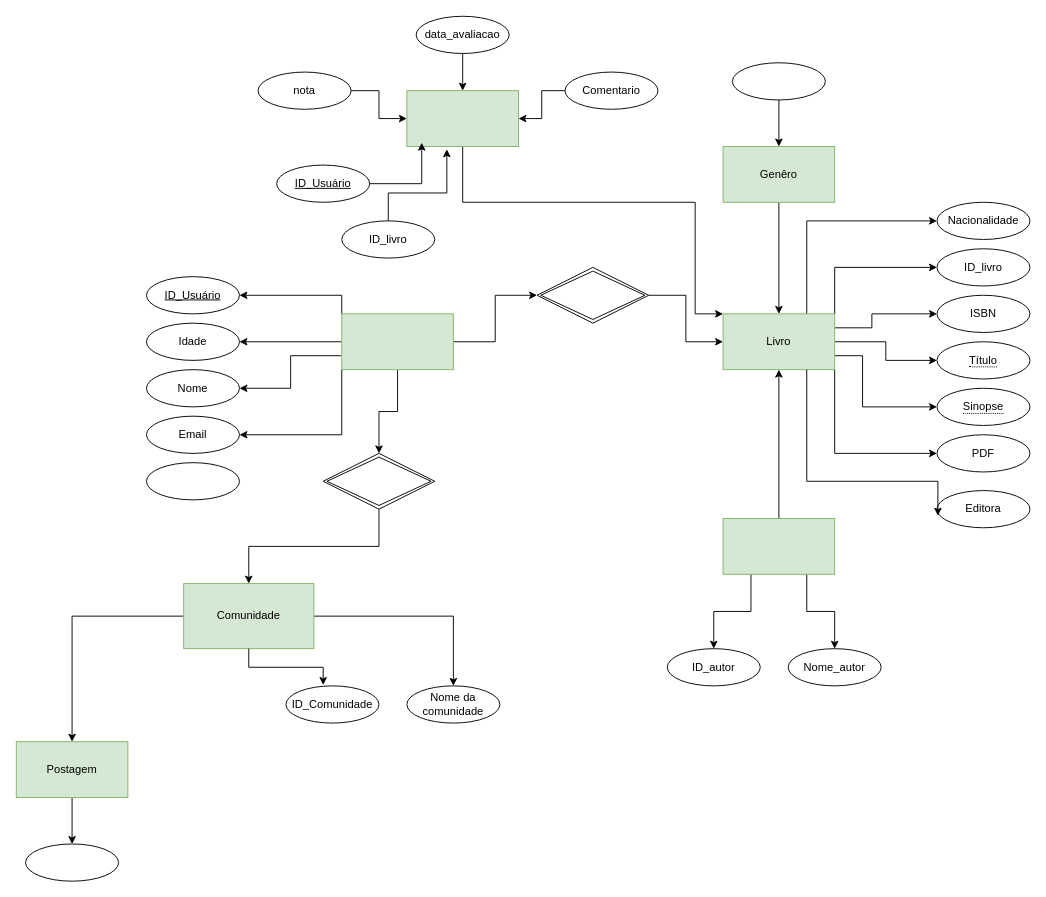
Some shapes in this 1046 by 897 pixel diagram are drawn without their labels. The shapes that lost their labels are listed below. From the top down, each one's box as (x1, y1, x2, y2) in pixels, then its label:
(731, 62, 825, 100): Classificação de genÊro
(406, 90, 518, 146): Avaliação
(536, 266, 649, 323): acessa
(341, 313, 453, 370): Usuário
(146, 462, 239, 500): Nível de usuário
(322, 452, 435, 509): Cadastra
(722, 518, 835, 574): Autor
(25, 843, 119, 881): ID_Postag
